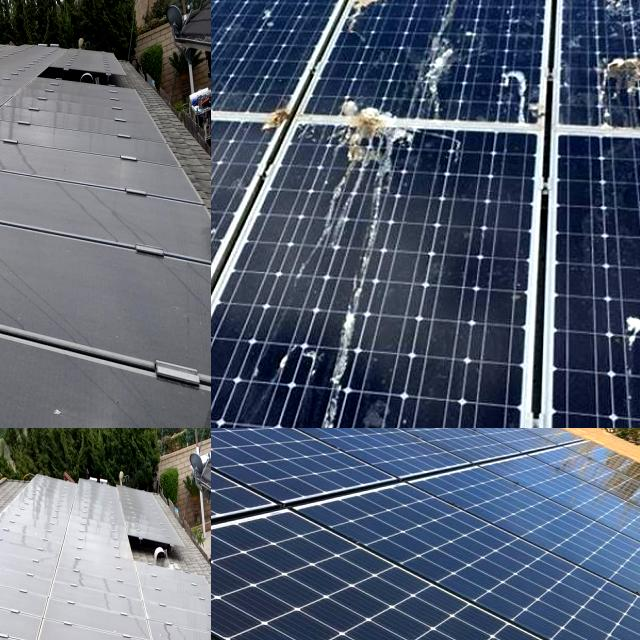bird: (329, 86, 432, 190), (244, 316, 342, 394), (211, 136, 269, 238), (581, 48, 640, 127), (491, 52, 552, 128), (211, 359, 261, 424), (318, 0, 419, 31), (602, 289, 640, 370), (240, 0, 305, 44), (395, 0, 480, 30), (256, 106, 306, 138), (445, 0, 495, 30), (211, 0, 253, 33)
crack: (263, 471, 640, 640), (211, 505, 640, 640), (387, 453, 640, 617), (211, 551, 640, 640), (211, 428, 494, 492), (211, 428, 418, 507), (263, 428, 550, 484)
dust: (0, 319, 55, 428), (22, 383, 141, 428)
